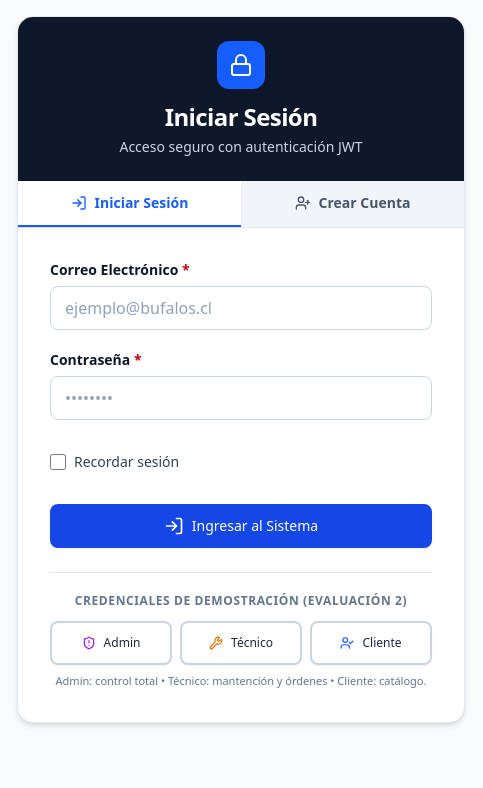
Test: LoginPage Component › muestra errores de validación en cliente cuando los campos están vacíos
Click the button "Ingresar al Sistema": click(241, 526) [50,504,432,548]
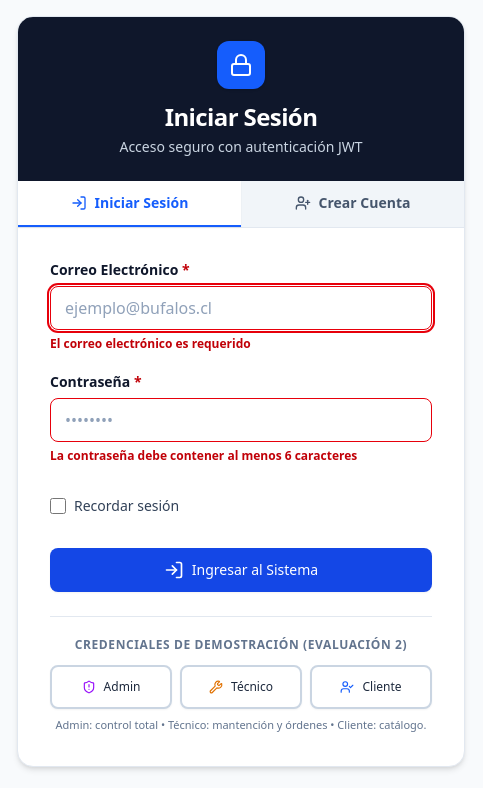
expect the text "El correo electrónico es requerido" is shown: met, box [50,335,251,352]
